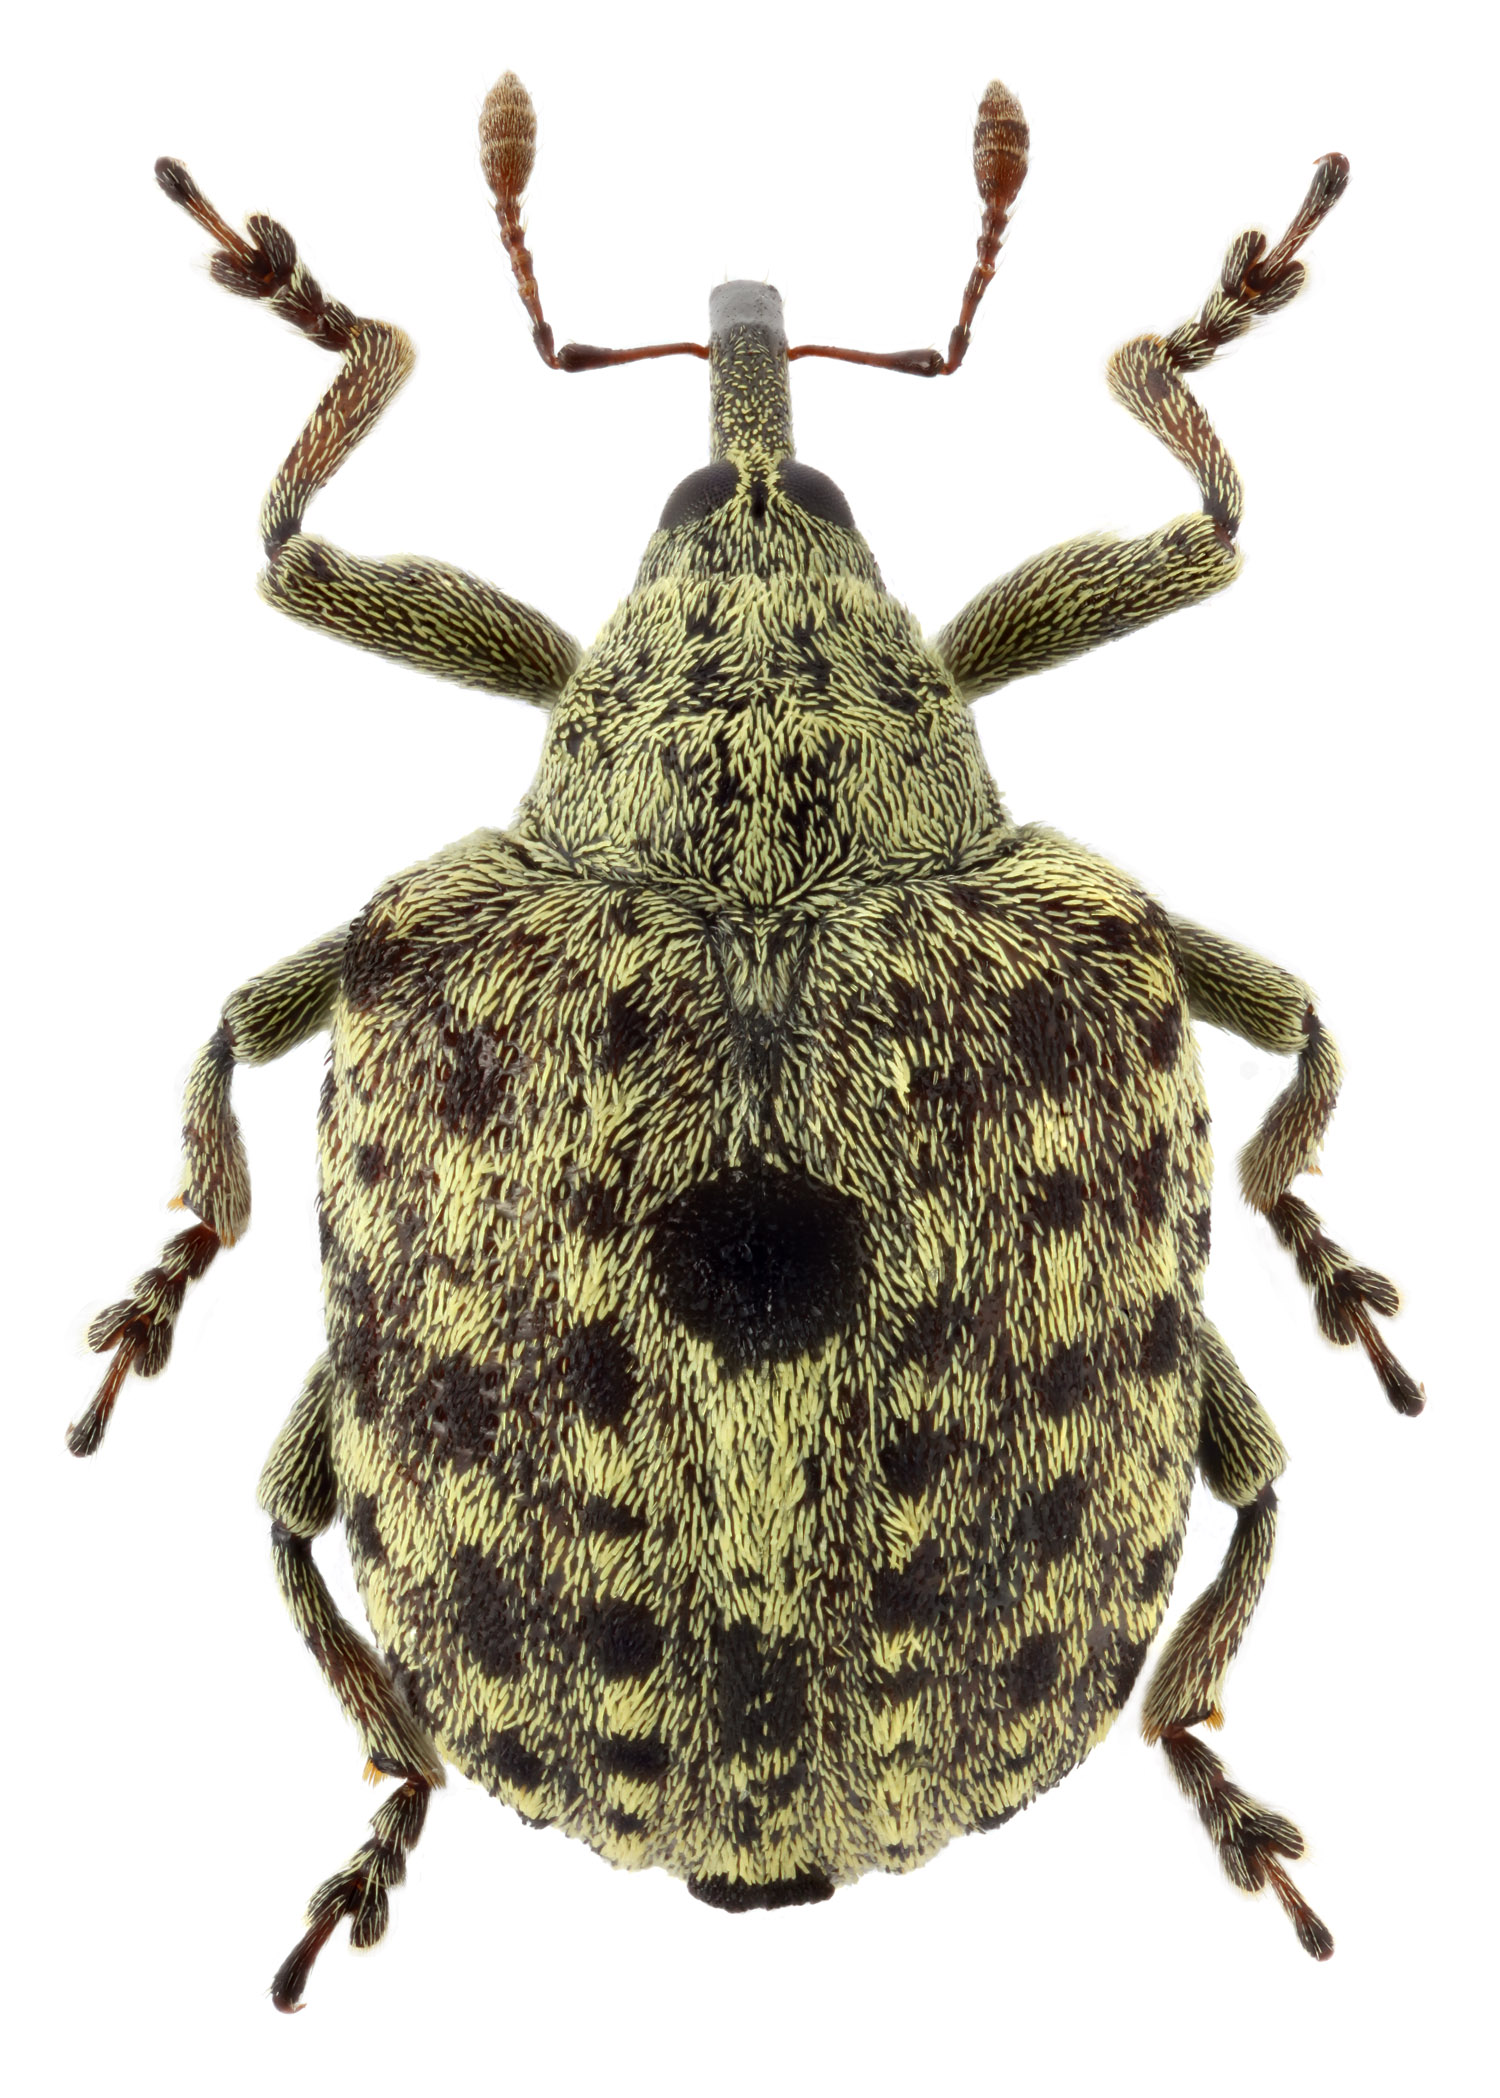dolgonosik: (63, 76, 1432, 1999)
